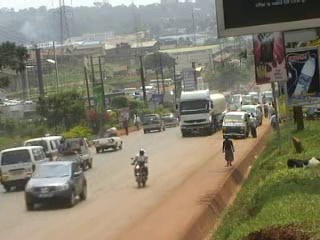Car: (24, 159, 89, 208), (141, 112, 167, 136), (161, 109, 180, 129)
Motorcycle: (127, 147, 154, 191)
